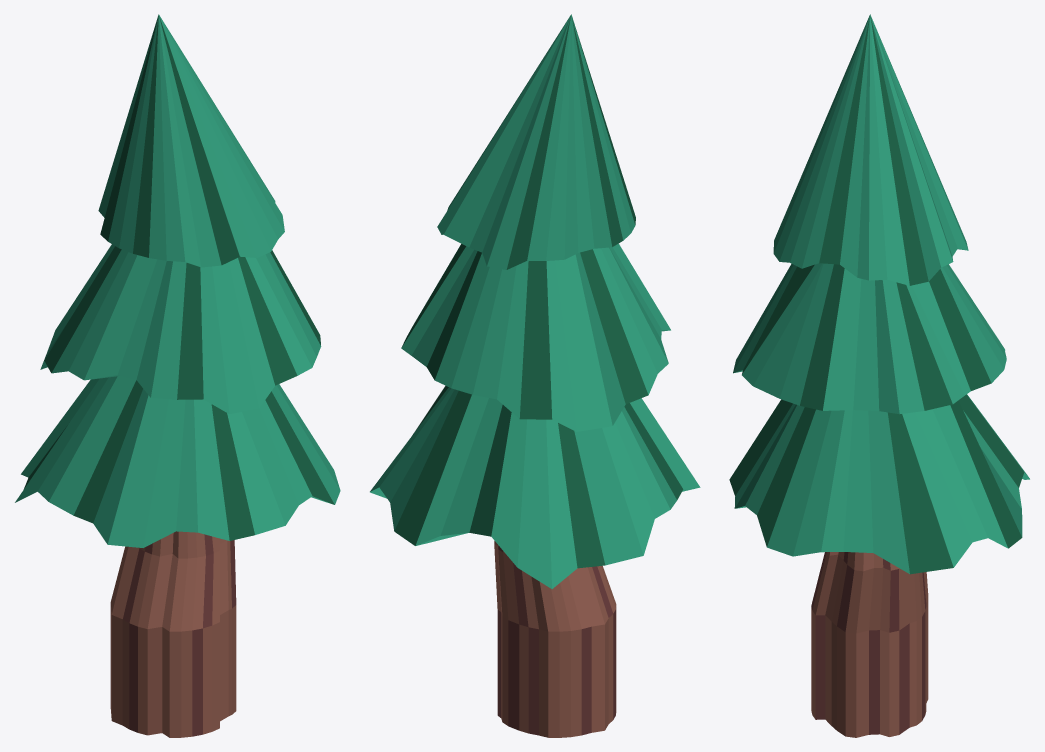
File: PineTree.fbx
The picture shows the model from 3 angles, left to right: view 1: azimuth 30°, elevation 25°; view 2: azimuth 150°, elevation 25°; view 3: azimuth 270°, elevation 25°; orthographic projection.
Visible parts, largest first — view 1: Cone, Cylinder; view 2: Cone, Cylinder; view 3: Cone, Cylinder.
Part boxes in pixels (x1=…): Cone: x1=15, y1=14, x2=340, y2=547; Cylinder: x1=110, y1=531, x2=236, y2=737; Cone: x1=370, y1=14, x2=700, y2=588; Cylinder: x1=494, y1=541, x2=616, y2=737; Cone: x1=729, y1=14, x2=1029, y2=574; Cylinder: x1=811, y1=552, x2=928, y2=737.
Size of the model in its own units: 542 by 1327 by 523.
